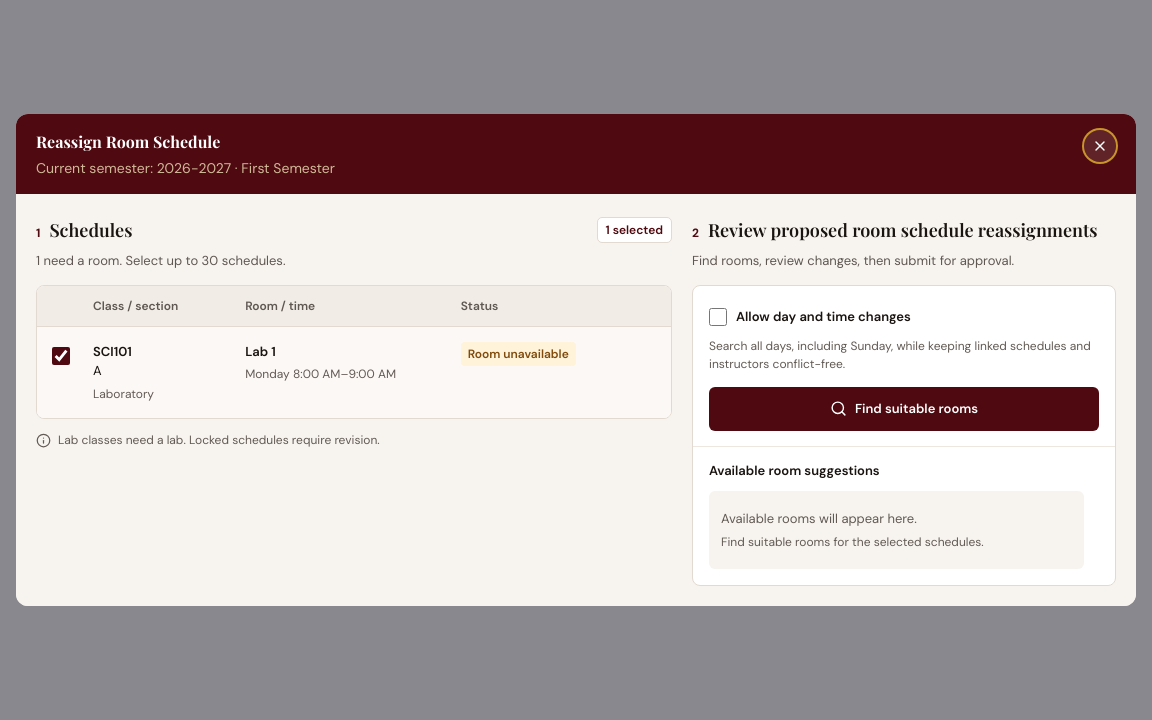
Test: Room recovery workflow › submits only after confirmation and disables duplicate confirmation clicks
Click the button "Find suitable rooms".
click(904, 409)  # box [709,387,1099,431]
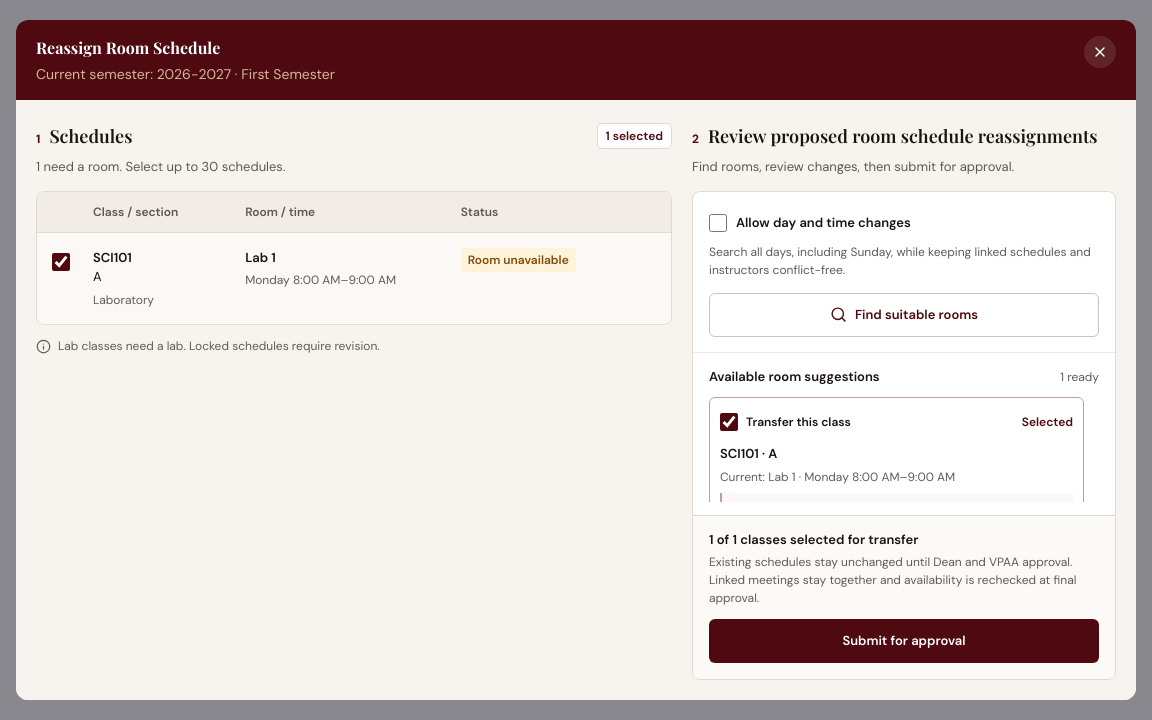
Click the button "Submit for approval".
click(904, 641)  # box [709,619,1099,663]
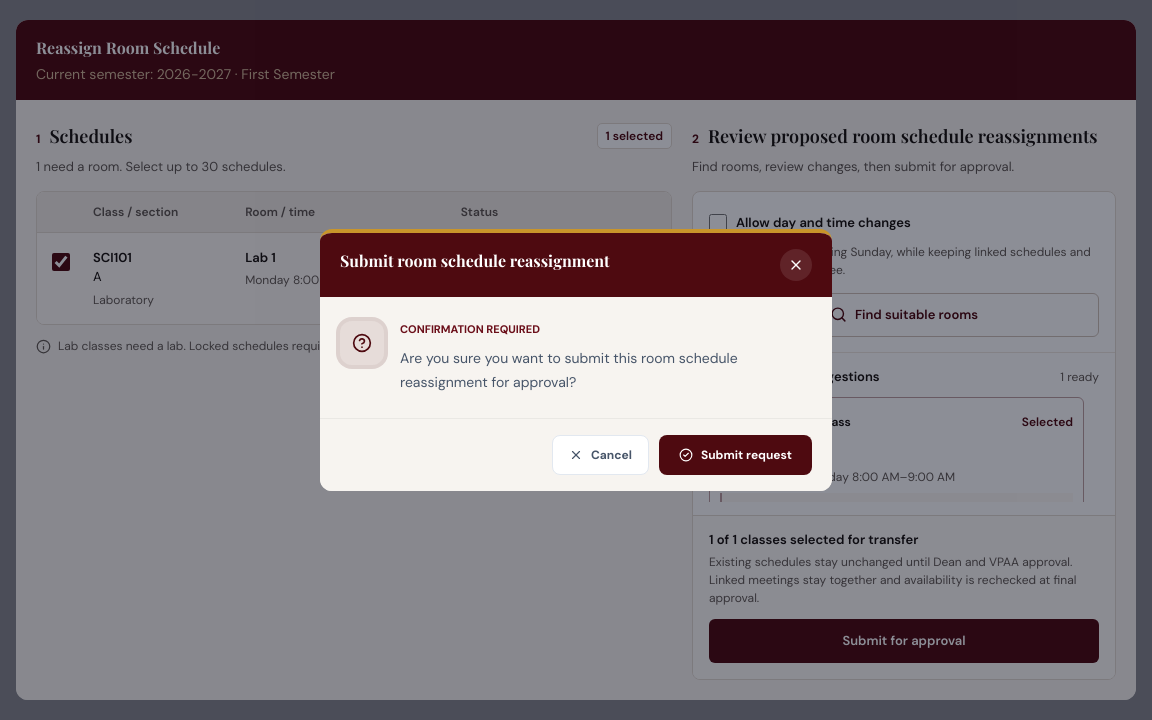
Click the button "Submit request".
click(736, 455)  # box [659,435,812,475]
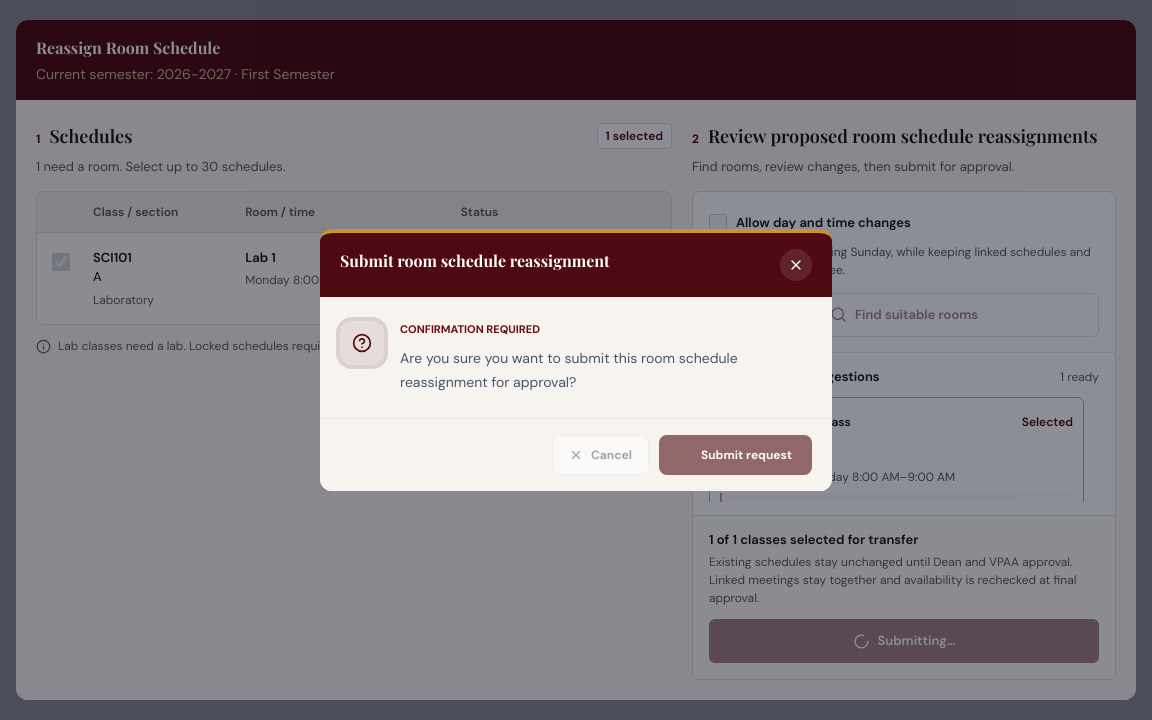
Click the button "Submit request".
click(736, 455)  # box [659,435,812,475]
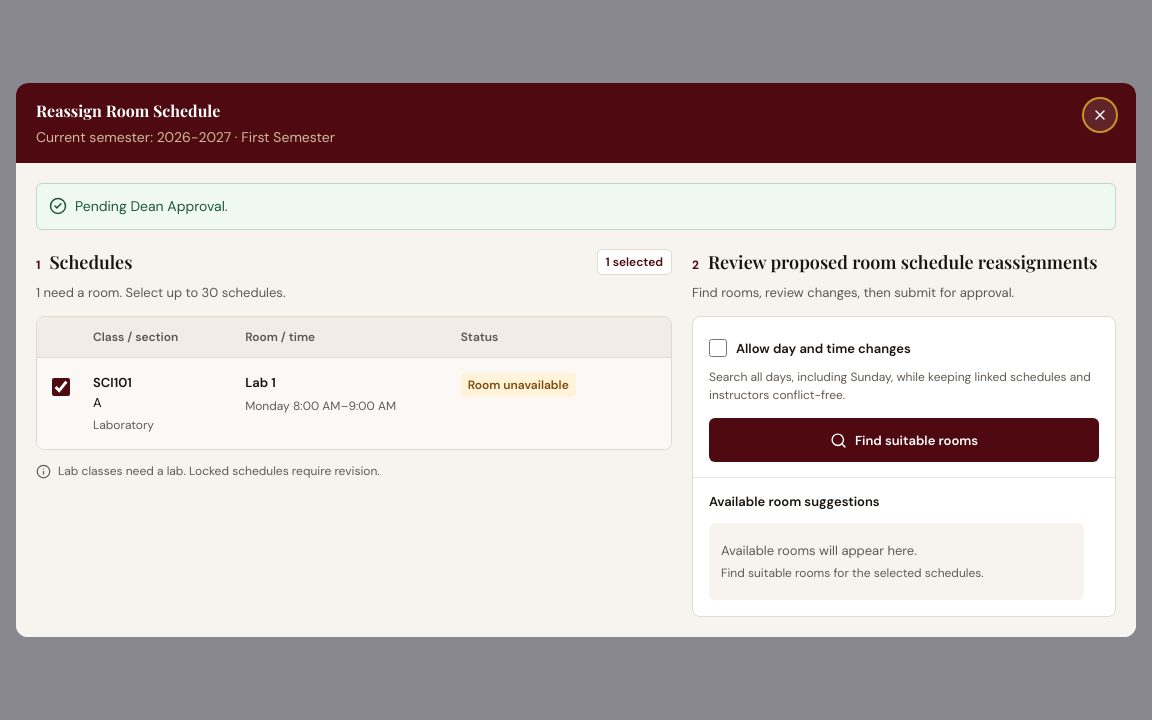
Now the text "Pending Dean Approval." is shown, box [36,183,1116,230]
